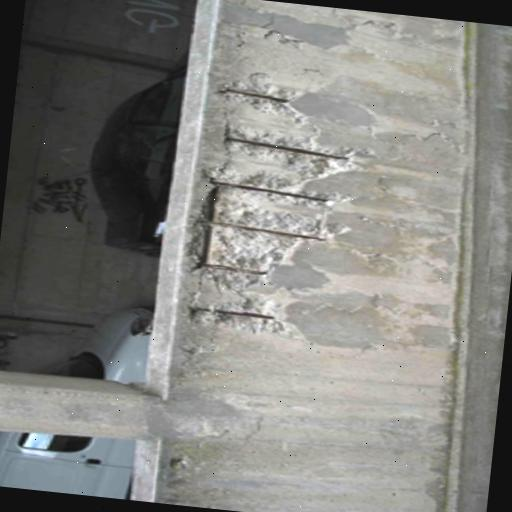spalling: (180, 75, 366, 370)
